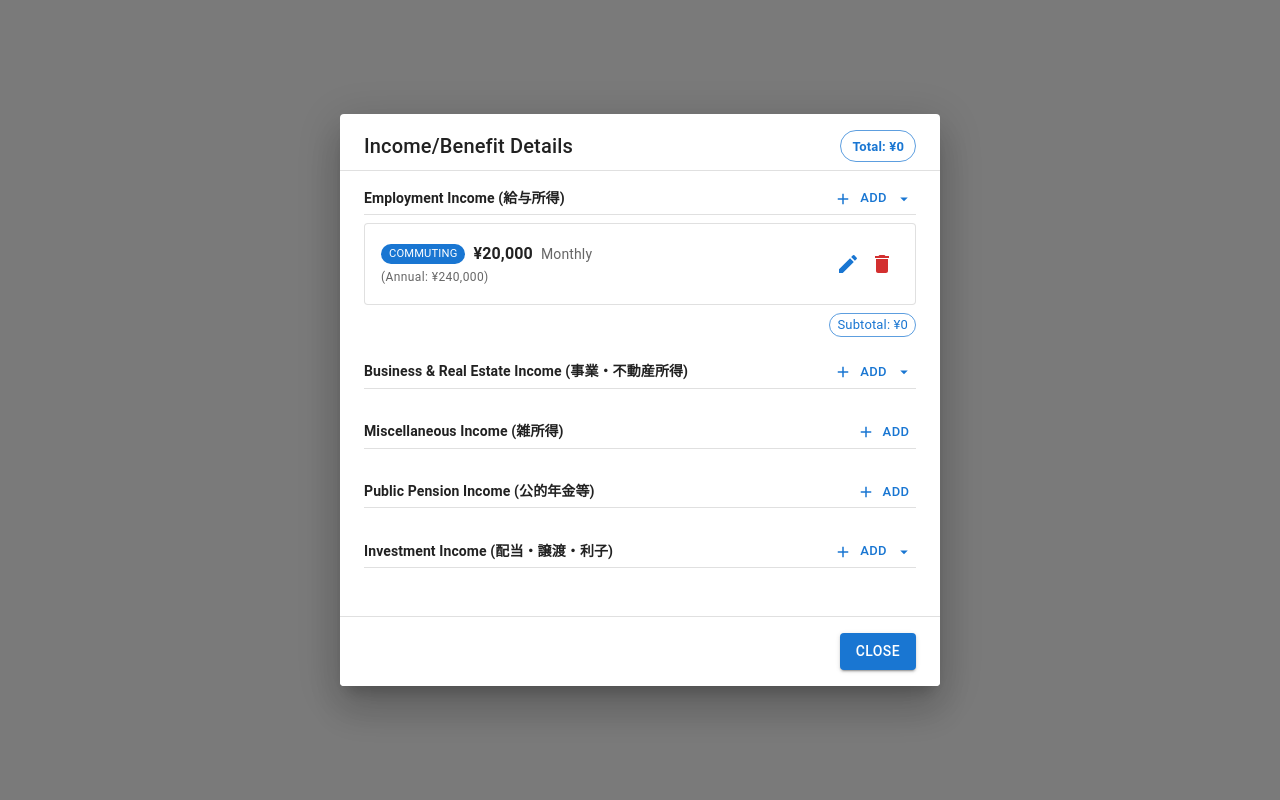
Scenario: IncomeDetailsModal - Commuting Allowance › disables Commuting Allowance option if one already exists
This screenshot has width=1280, height=800.
// The Commuting Allowance entry of the employment-income type menu is disabled
Click the button with aria-label "add employment income" at (874, 199), box [831,183,916,214]
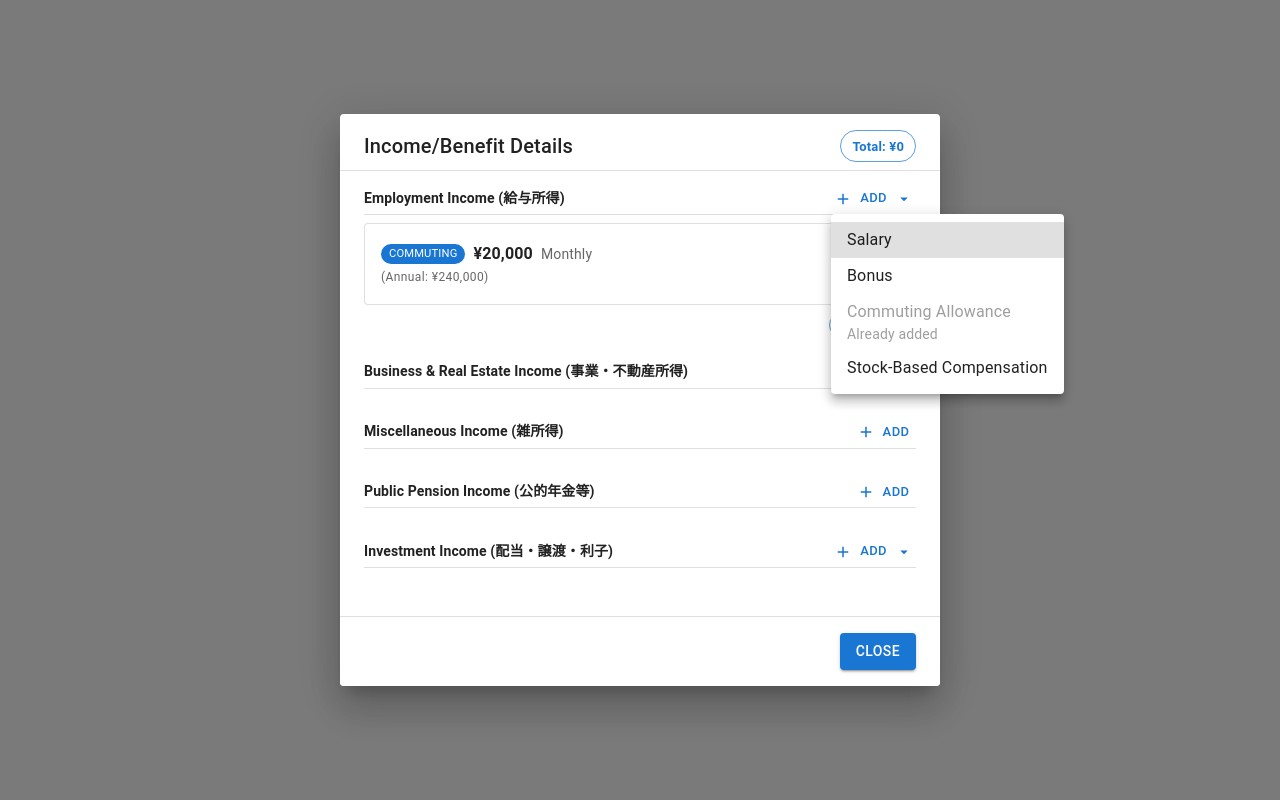
Expected: the menu item "Commuting Allowance Already added" is shown, [847,302,1011,342]
